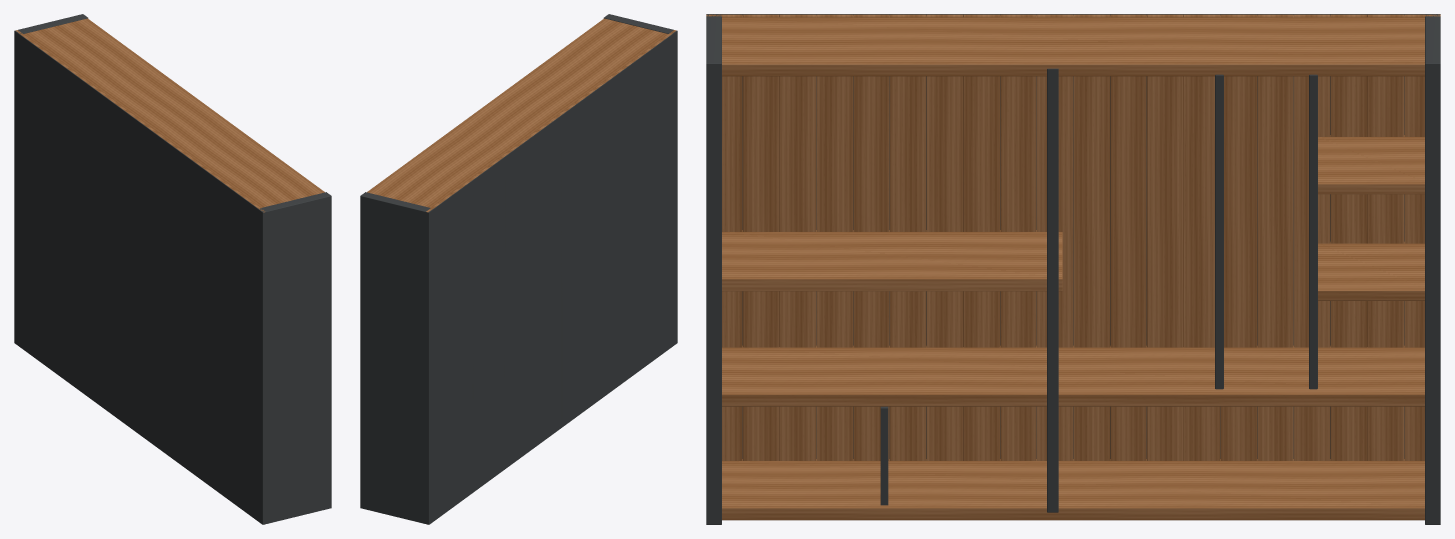
File: cabinet_v06a.glb
The picture shows the model from 3 angles, left to right: view 1: azimuth 30°, elevation 25°; view 2: azimuth 150°, elevation 25°; view 3: azimuth 270°, elevation 25°; orthographic projection. The views are drawn at different scales.
Visible parts, largest first — view 1: VIS_CabinetBackSubstrate, VIS_CabinetPanel_01, VIS_CabinetPanel_05, VIS_CabinetPanel_02, VIS_CabinetPanel_07, VIS_CabinetBackOakPanels, VIS_CabinetPanel_08, VIS_CabinetPanel_09; view 2: VIS_CabinetBackSubstrate, VIS_CabinetPanel_02, VIS_CabinetPanel_05, VIS_CabinetPanel_07, VIS_CabinetPanel_01, VIS_CabinetBackOakPanels, VIS_CabinetPanel_09; view 3: VIS_CabinetBackOakPanels, VIS_CabinetPanel_05, VIS_CabinetPanel_03, VIS_CabinetPanel_04, VIS_CabinetPanel_06, VIS_CabinetPanel_02, VIS_CabinetPanel_01, VIS_CabinetPanel_12, VIS_CabinetPanel_11, VIS_CabinetPanel_07, VIS_CabinetBackSubstrate, VIS_CabinetPanel_08 (+2 smaller).
Boxes of the visible parts, <box> form: VIS_CabinetBackSubstrate: <box>14,30,262,524</box>; VIS_CabinetPanel_01: <box>257,192,331,524</box>; VIS_CabinetPanel_05: <box>24,18,324,207</box>; VIS_CabinetPanel_02: <box>14,14,88,345</box>; VIS_CabinetPanel_07: <box>143,129,147,431</box>; VIS_CabinetBackOakPanels: <box>15,30,265,212</box>; VIS_CabinetPanel_08: <box>88,93,90,305</box>; VIS_CabinetPanel_09: <box>56,69,58,281</box>; VIS_CabinetBackSubstrate: <box>429,30,677,524</box>; VIS_CabinetPanel_02: <box>360,192,434,524</box>; VIS_CabinetPanel_05: <box>367,18,667,207</box>; VIS_CabinetPanel_07: <box>558,120,562,420</box>; VIS_CabinetPanel_01: <box>603,14,675,345</box>; VIS_CabinetBackOakPanels: <box>426,30,676,212</box>; VIS_CabinetPanel_09: <box>471,189,473,401</box>; VIS_CabinetBackOakPanels: <box>706,14,1440,460</box>; VIS_CabinetPanel_05: <box>722,15,1424,76</box>; VIS_CabinetPanel_03: <box>722,459,1424,520</box>; VIS_CabinetPanel_04: <box>722,346,1424,406</box>; VIS_CabinetPanel_06: <box>722,230,1062,291</box>; VIS_CabinetPanel_02: <box>1425,14,1440,524</box>; VIS_CabinetPanel_01: <box>706,14,721,524</box>; VIS_CabinetPanel_12: <box>1318,135,1424,194</box>; VIS_CabinetPanel_11: <box>1318,242,1424,300</box>; VIS_CabinetPanel_07: <box>1047,68,1058,512</box>; VIS_CabinetBackSubstrate: <box>706,14,1440,458</box>; VIS_CabinetPanel_08: <box>1215,74,1223,389</box>.
Bounding box in the file's own units: 0.6 × 2.6 × 3.75.
2 materials, 1 textured.
